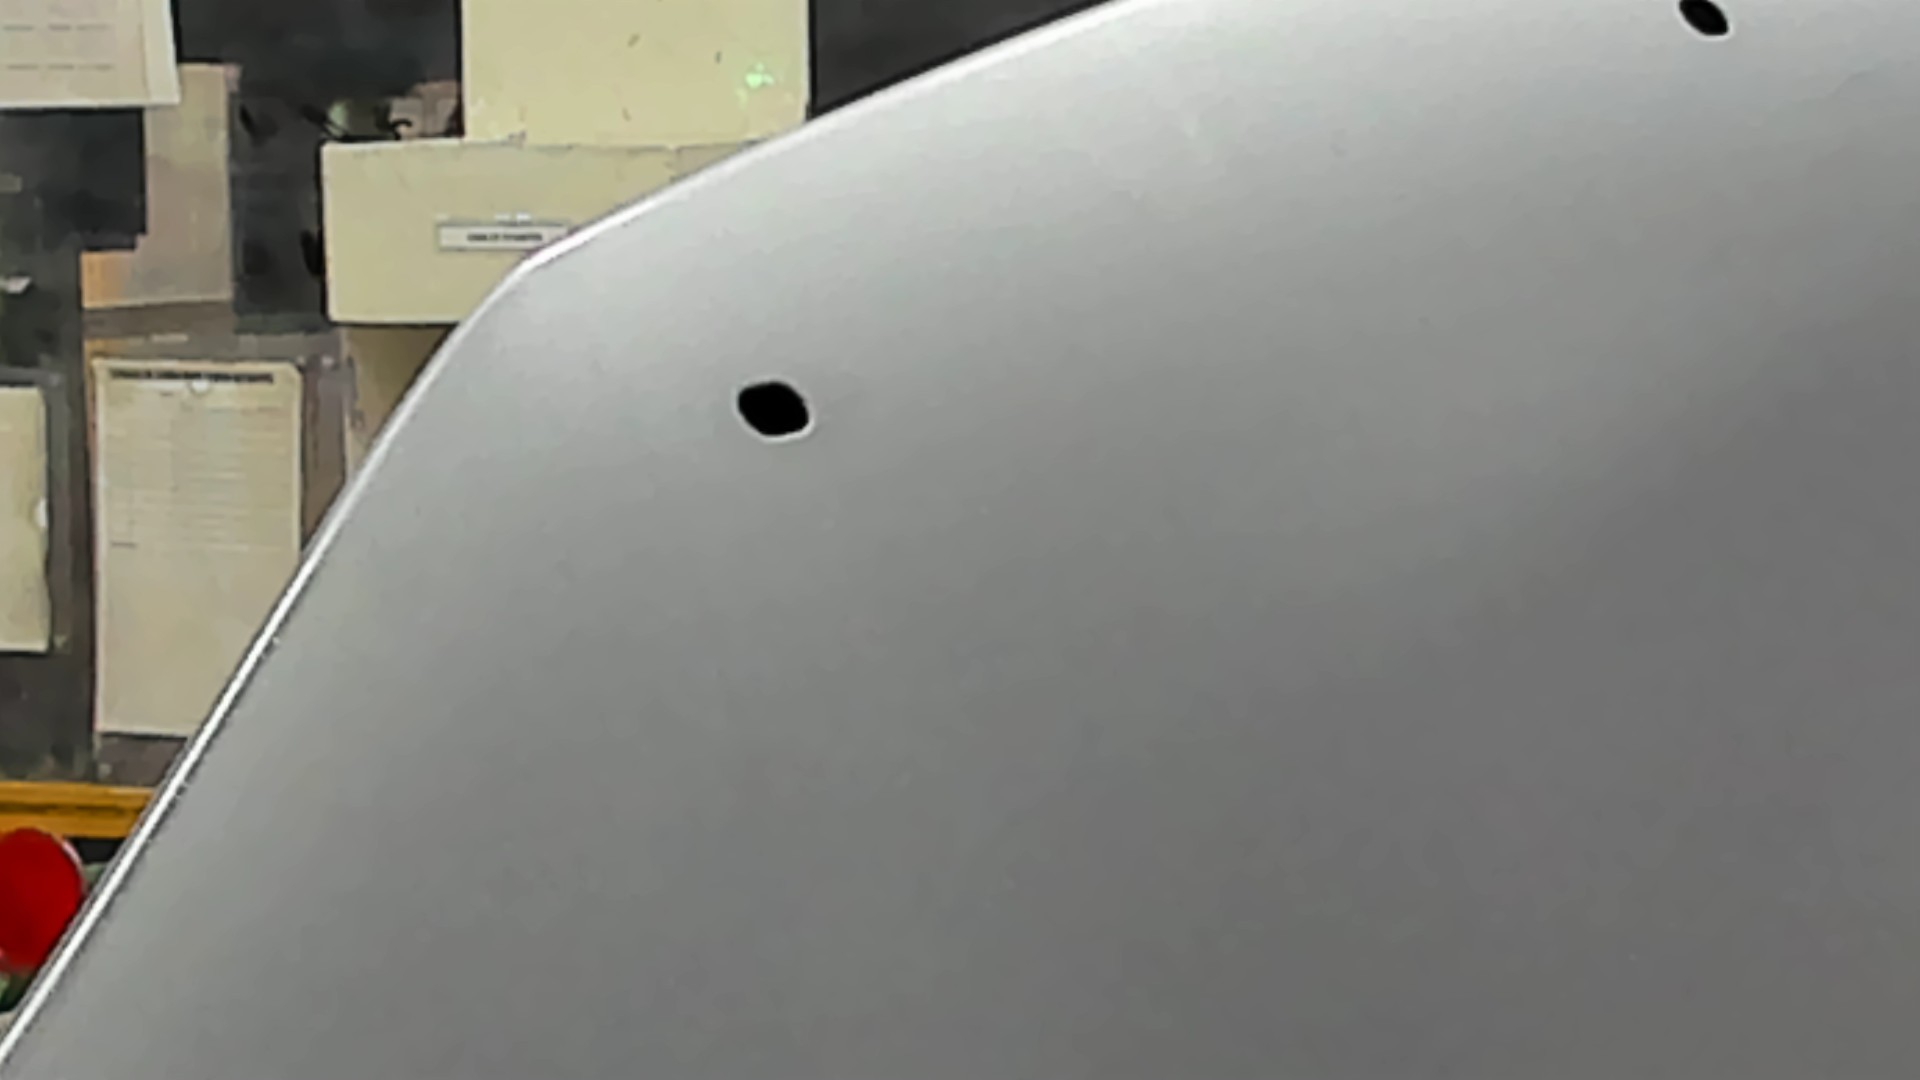chico: (735, 372, 816, 448), (1669, 1, 1738, 45)
